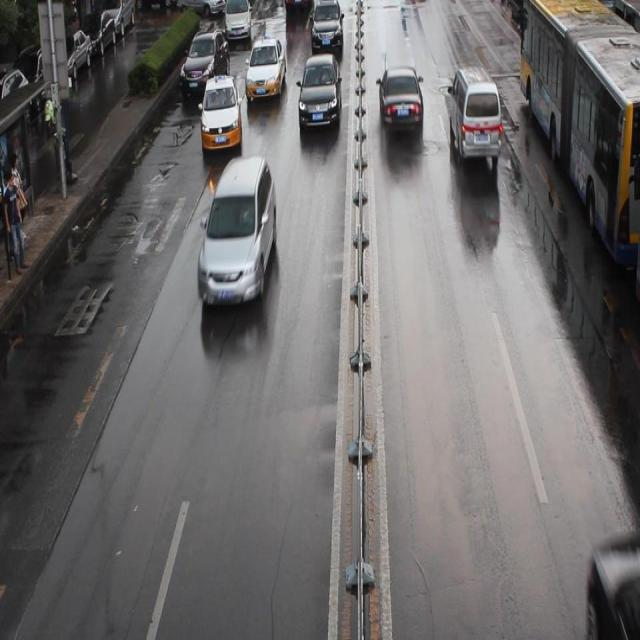bus: (284, 1, 314, 7)
car: (584, 531, 640, 640), (180, 27, 230, 96), (297, 55, 342, 129), (200, 76, 242, 148), (378, 66, 422, 132), (245, 34, 285, 100), (309, 1, 343, 55), (224, 1, 252, 40), (176, 1, 227, 19)
truck: (197, 155, 278, 305), (449, 64, 500, 158)
van: (519, 1, 640, 269)
